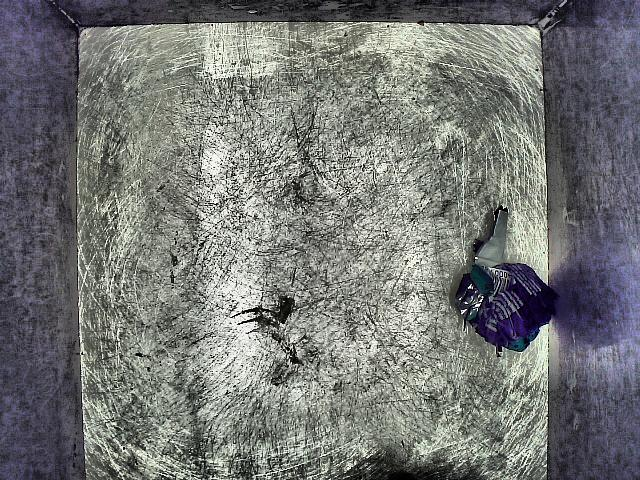Plastic: (453, 193, 558, 373)
